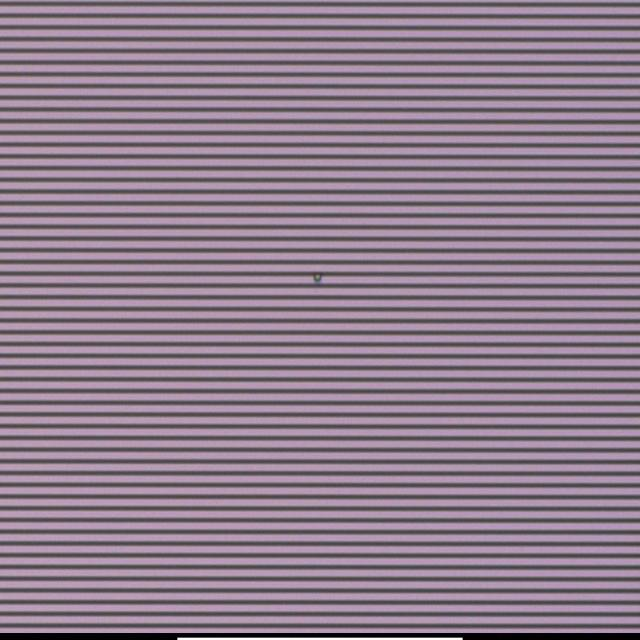03_intrusion: (311, 267, 326, 286)
